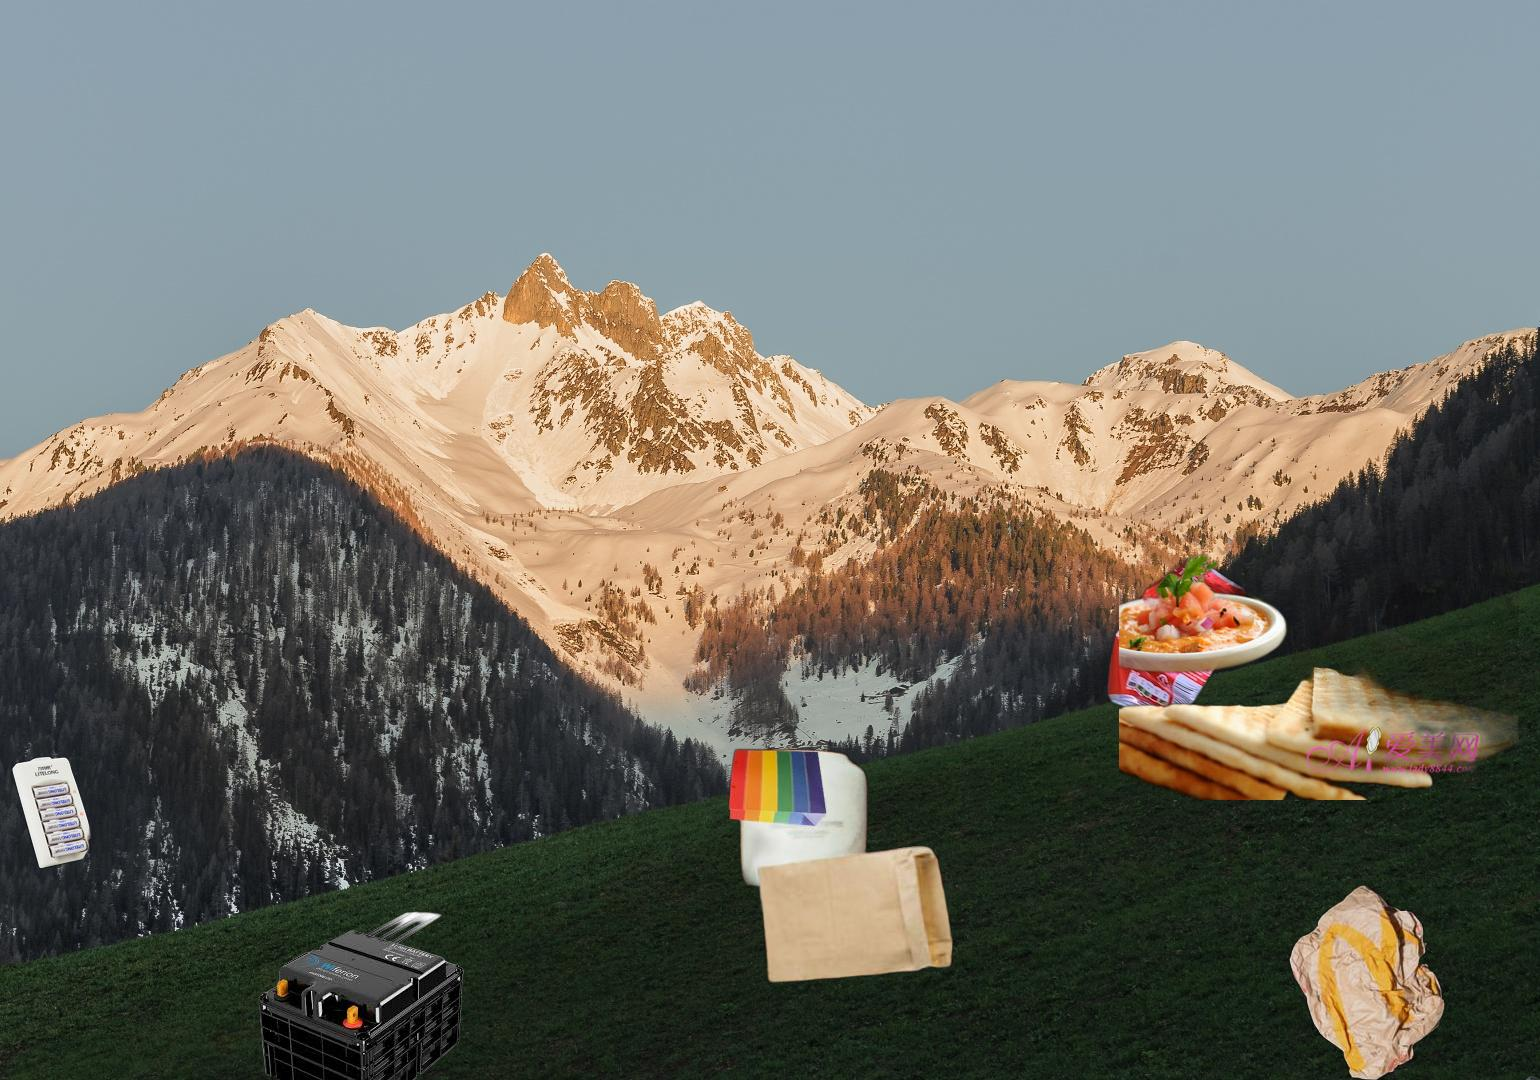battery: (257, 909, 467, 1080), (9, 754, 157, 871)
biological: (1119, 500, 1519, 800)
metal-cans: (1102, 551, 1252, 731)
paper-bag: (714, 747, 956, 986), (1286, 882, 1448, 1080)
plastic-bag: (1414, 1073, 1540, 1080)
